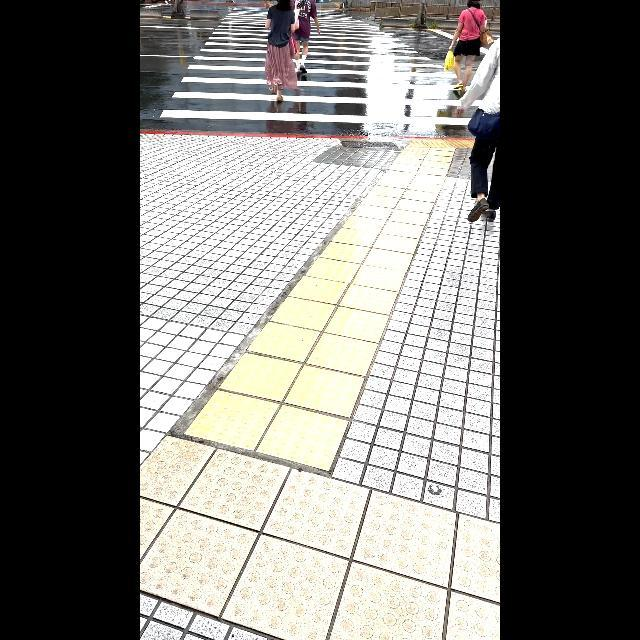sidewalk: (150, 4, 500, 132)
